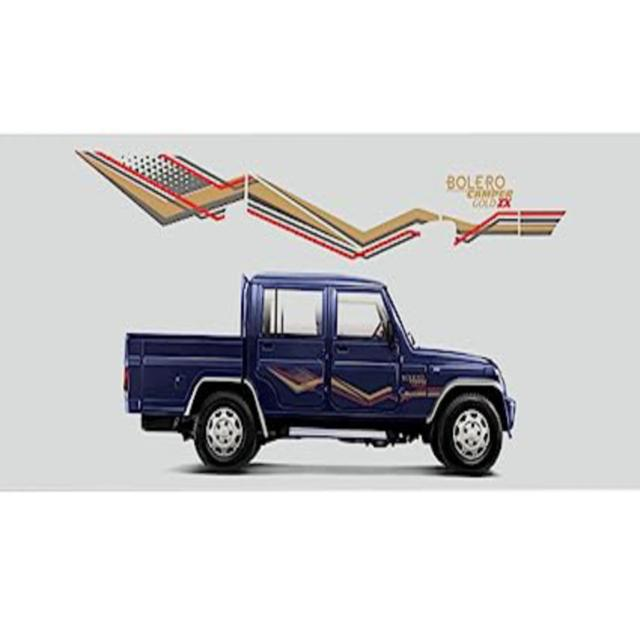light_vehicle: (120, 272, 518, 488)
